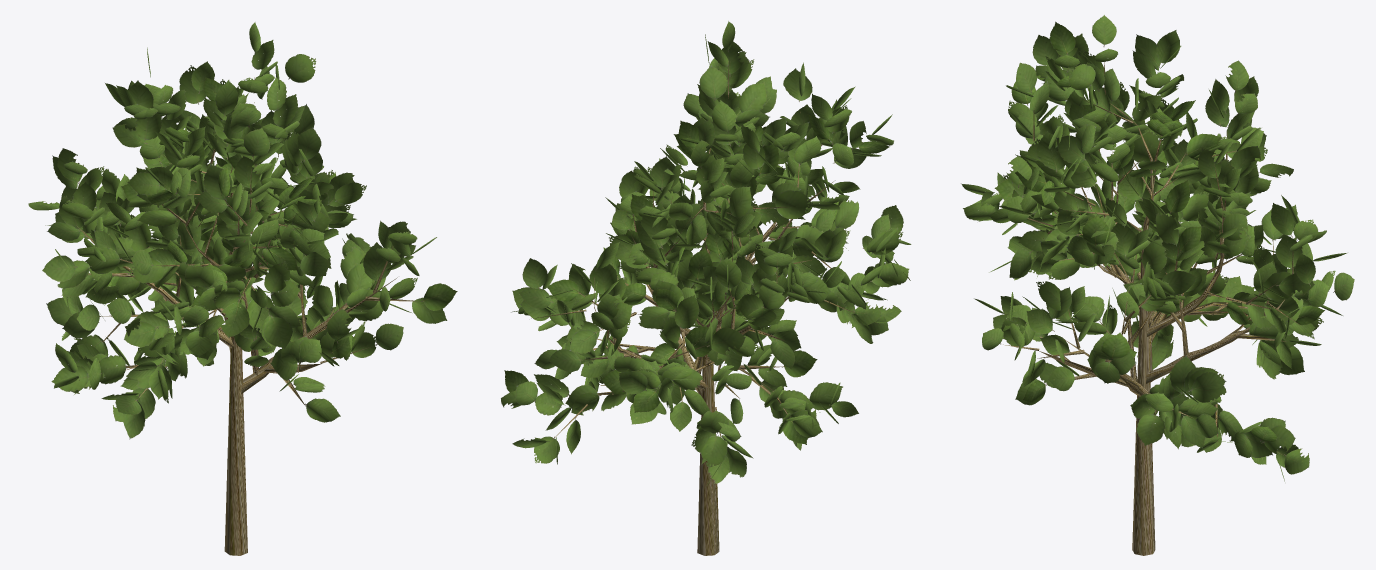
Rendered from tree2_lod1.glb.
The picture shows the model from 3 angles, left to right: view 1: azimuth 30°, elevation 25°; view 2: azimuth 150°, elevation 25°; view 3: azimuth 270°, elevation 25°; orthographic projection. The views are drawn at different scales.
Visible parts, largest first — view 1: leaves, trunk; view 2: leaves, trunk; view 3: leaves, trunk.
Boxes of the visible parts, bbox=[...] form: leaves: bbox=[28, 22, 457, 439]; trunk: bbox=[76, 77, 417, 555]; leaves: bbox=[501, 21, 911, 487]; trunk: bbox=[531, 61, 854, 555]; leaves: bbox=[961, 15, 1354, 481]; trunk: bbox=[1003, 62, 1300, 555].
Bounding box in the file's own units: 0.7136 × 1 × 0.6958.
Materials: 2 (2 with a texture image).
